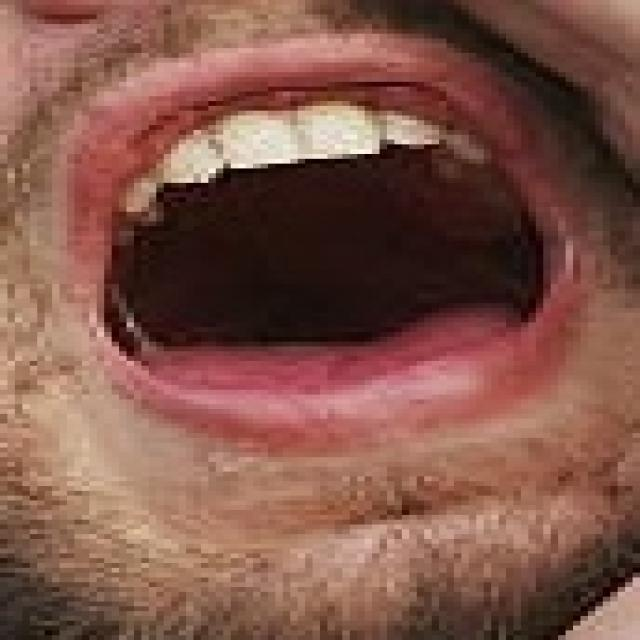open-mouth: (37, 29, 610, 443)
